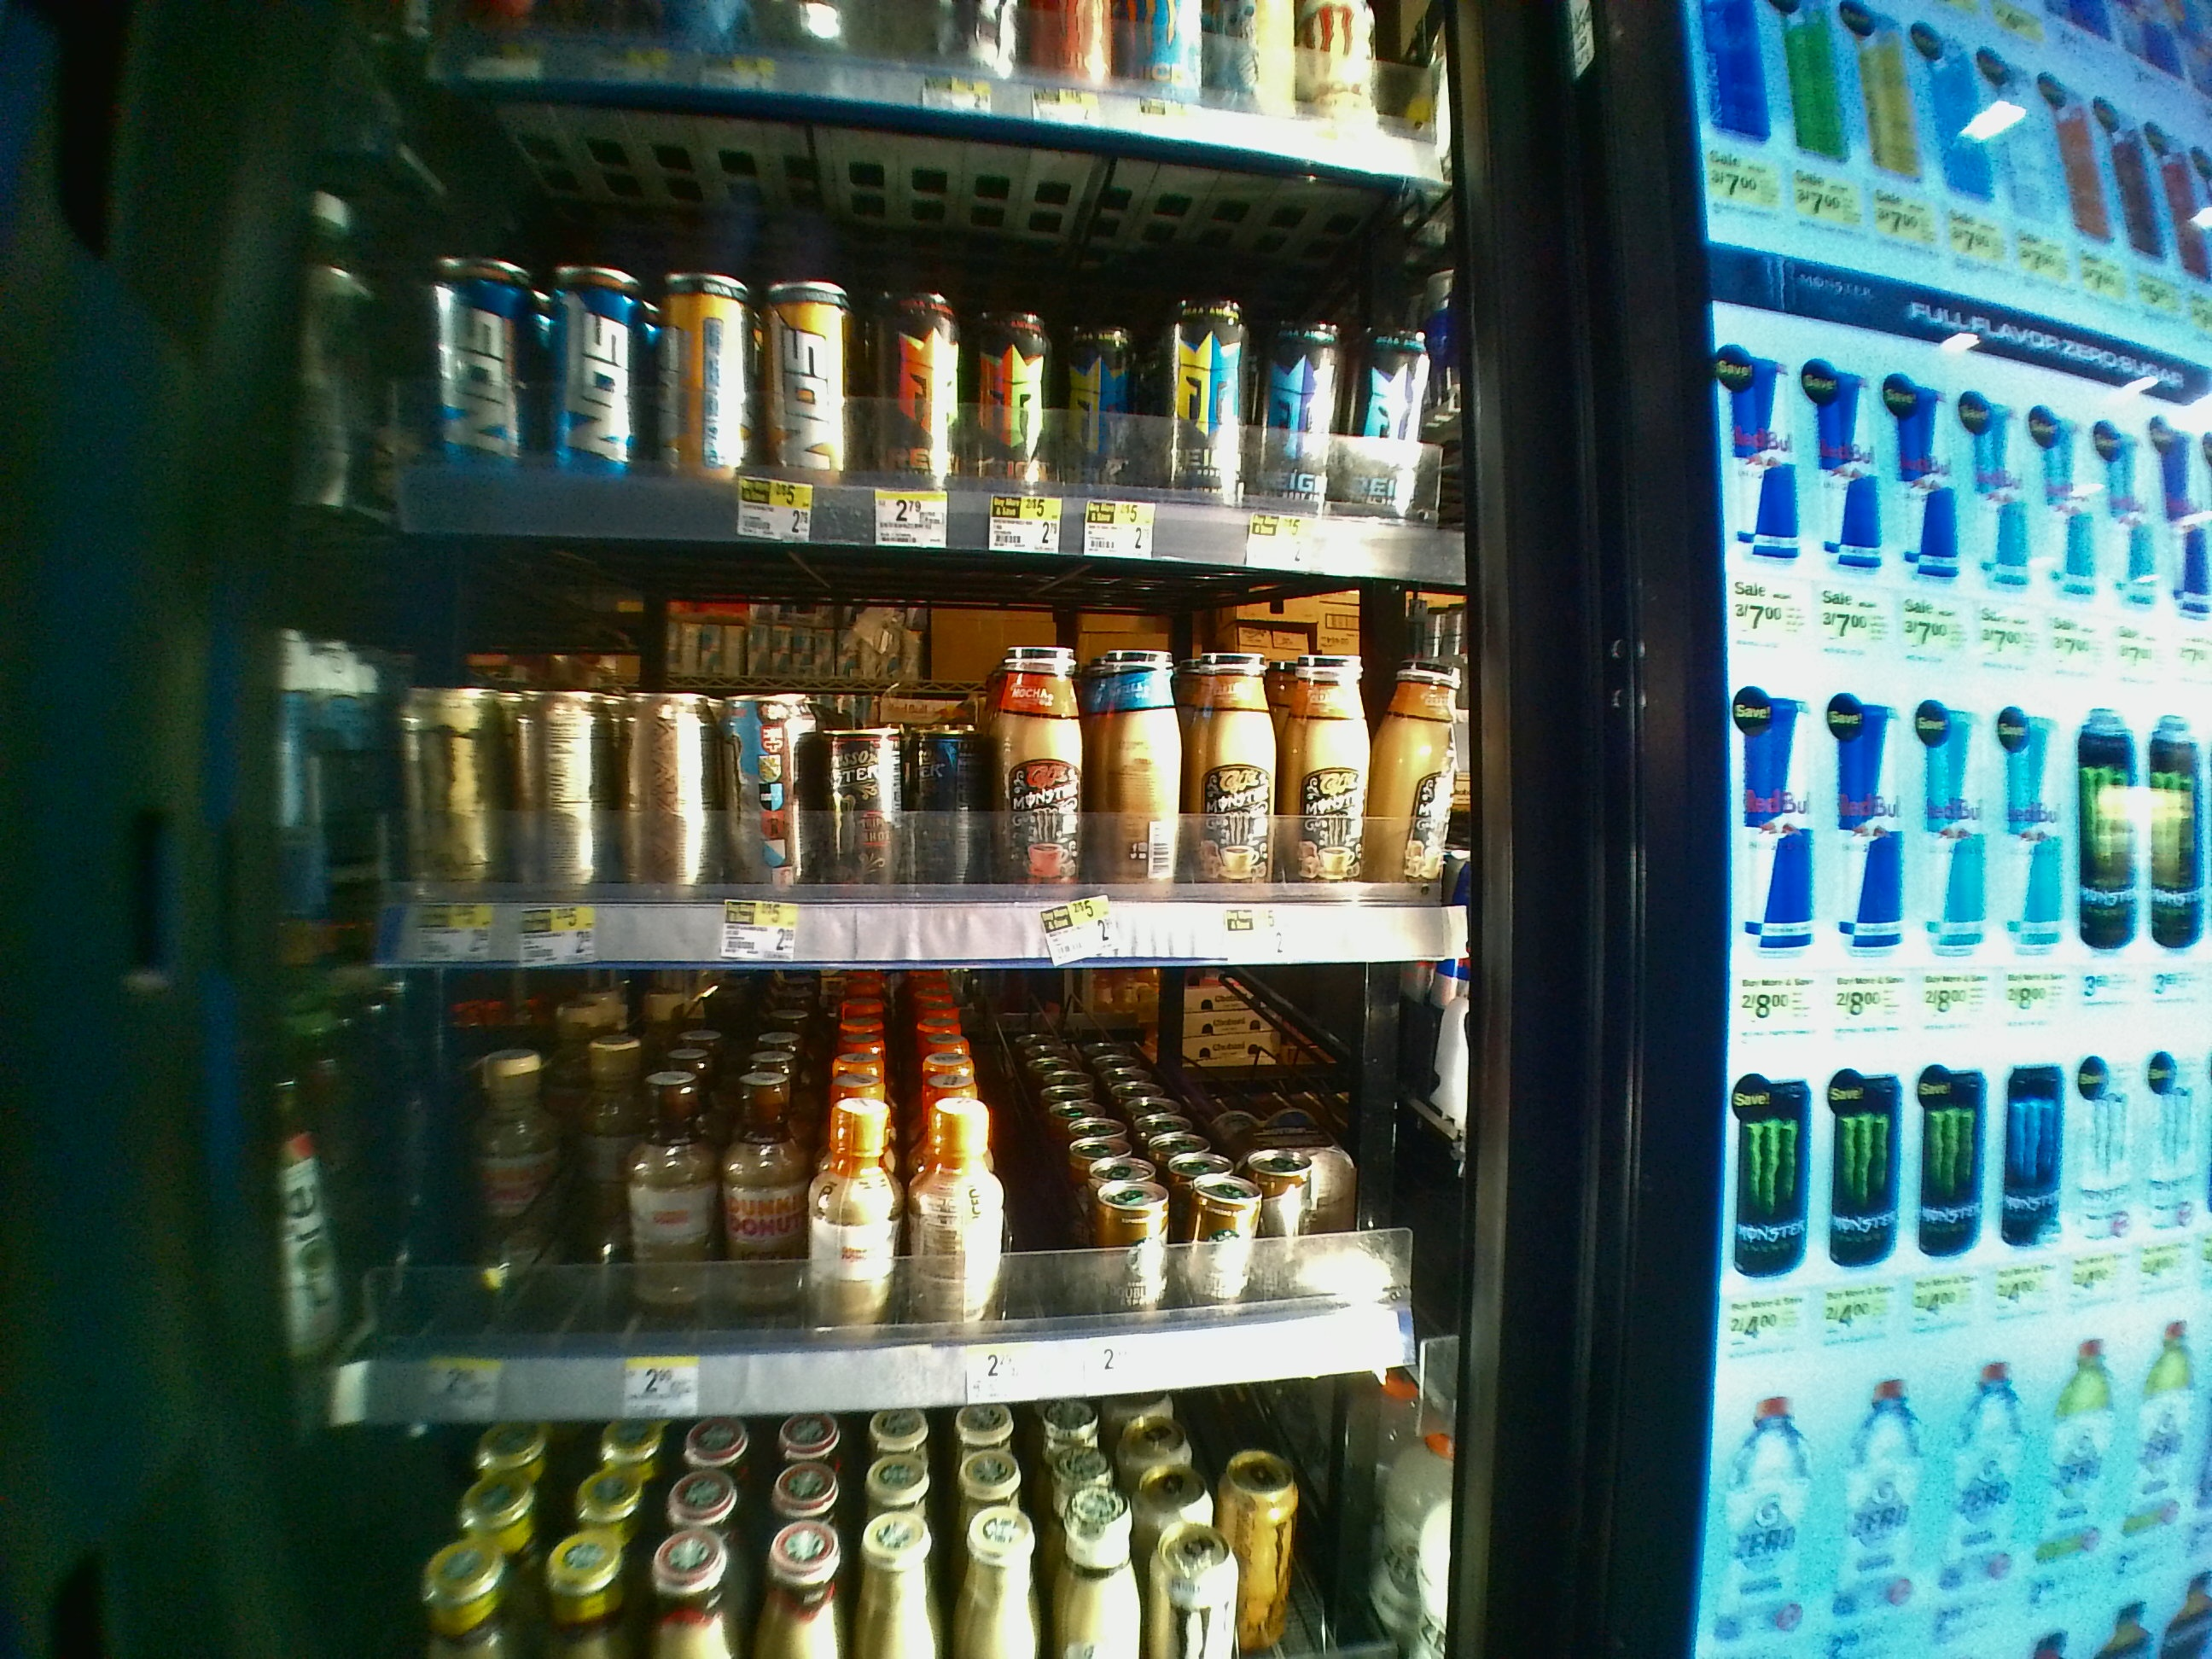shelf: (272, 525, 1489, 971), (261, 971, 1465, 1420)
